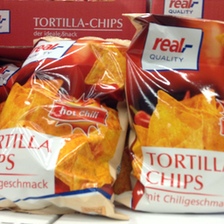chips: (1, 35, 136, 208), (123, 12, 224, 210)
